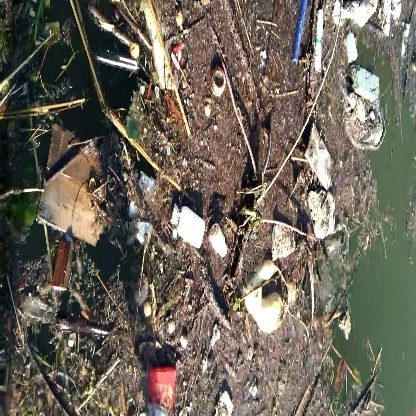plastic-garbage: (340, 63, 387, 153)
